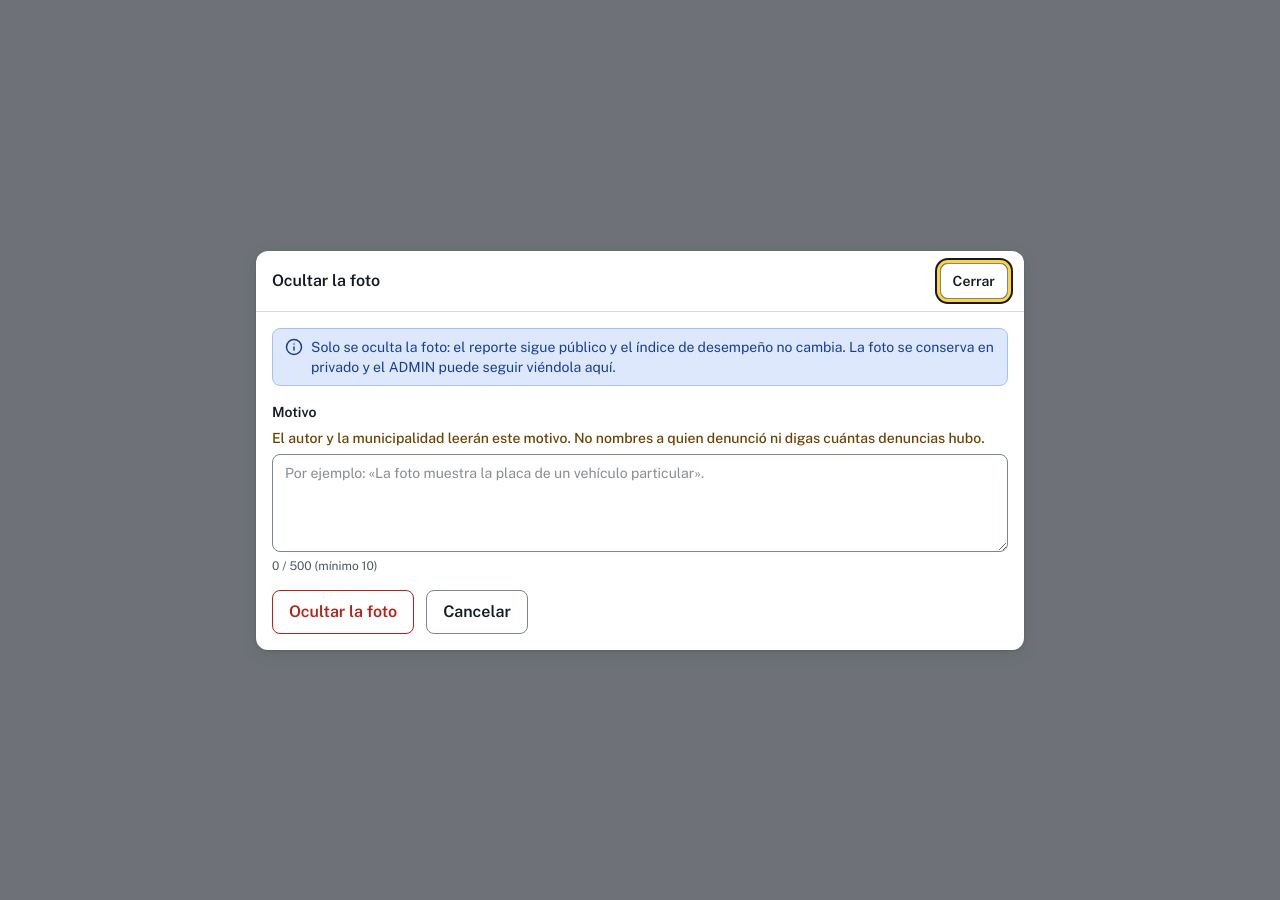
DialogoModerar (NC-11b) › exige el largo del motivo antes de enviar
Type "corto" into the text box labelled "Motivo". click: (640, 502)
box: [272, 454, 1008, 552]
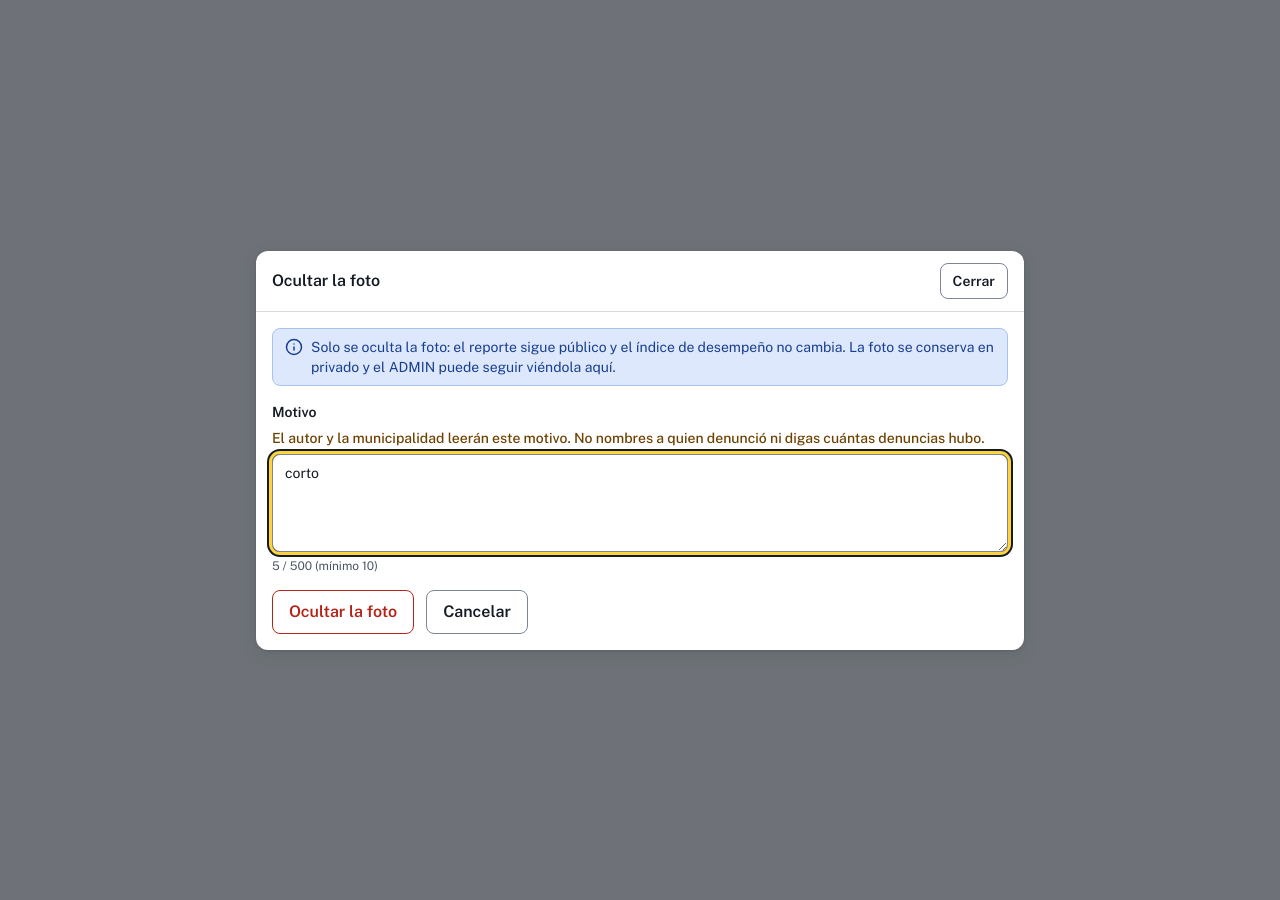
Click the button "Ocultar la foto". click: (343, 612)
box: [272, 590, 414, 634]
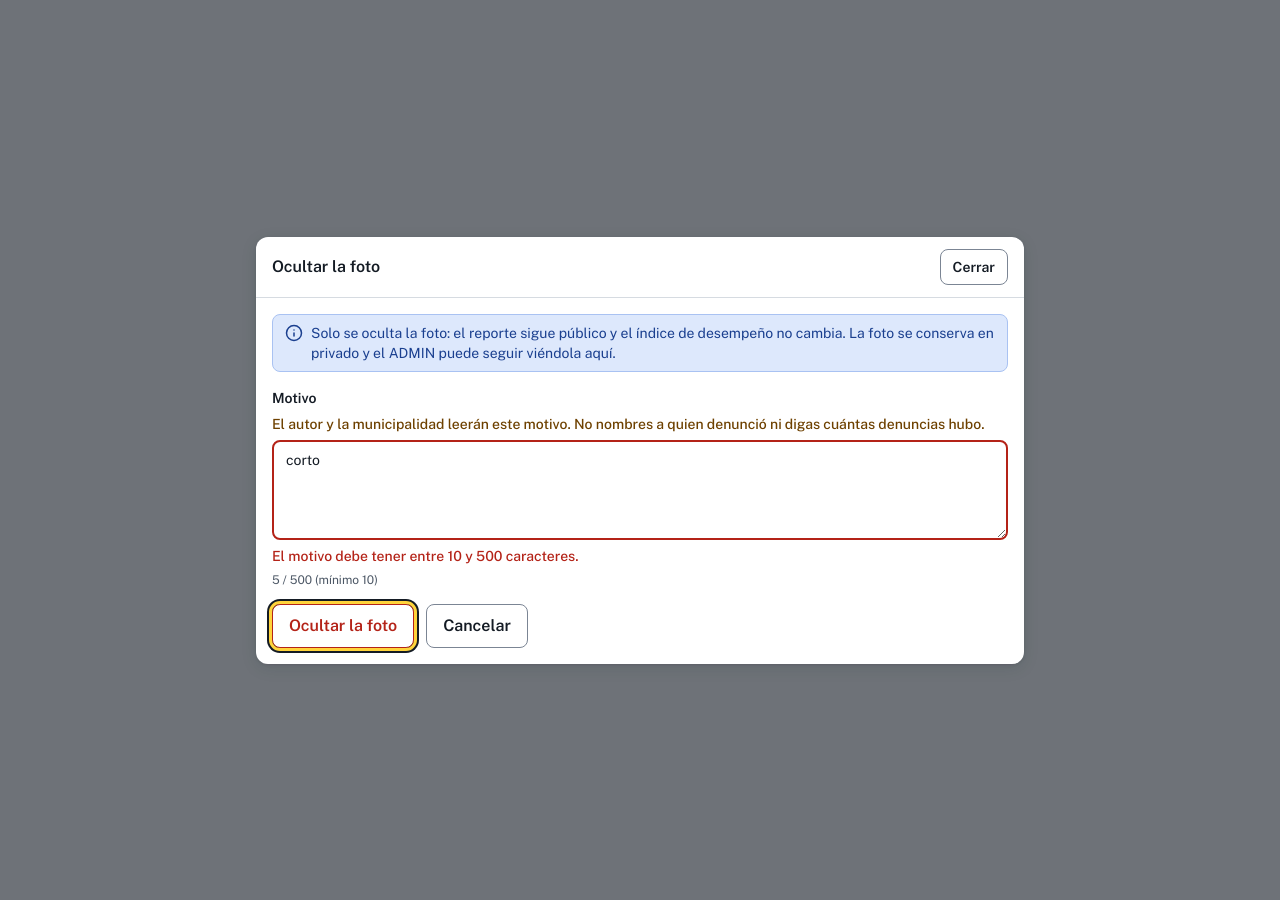
Check: the message reads "El motivo debe tener entre 10 y 500 caracteres.", box [272, 548, 579, 564]
